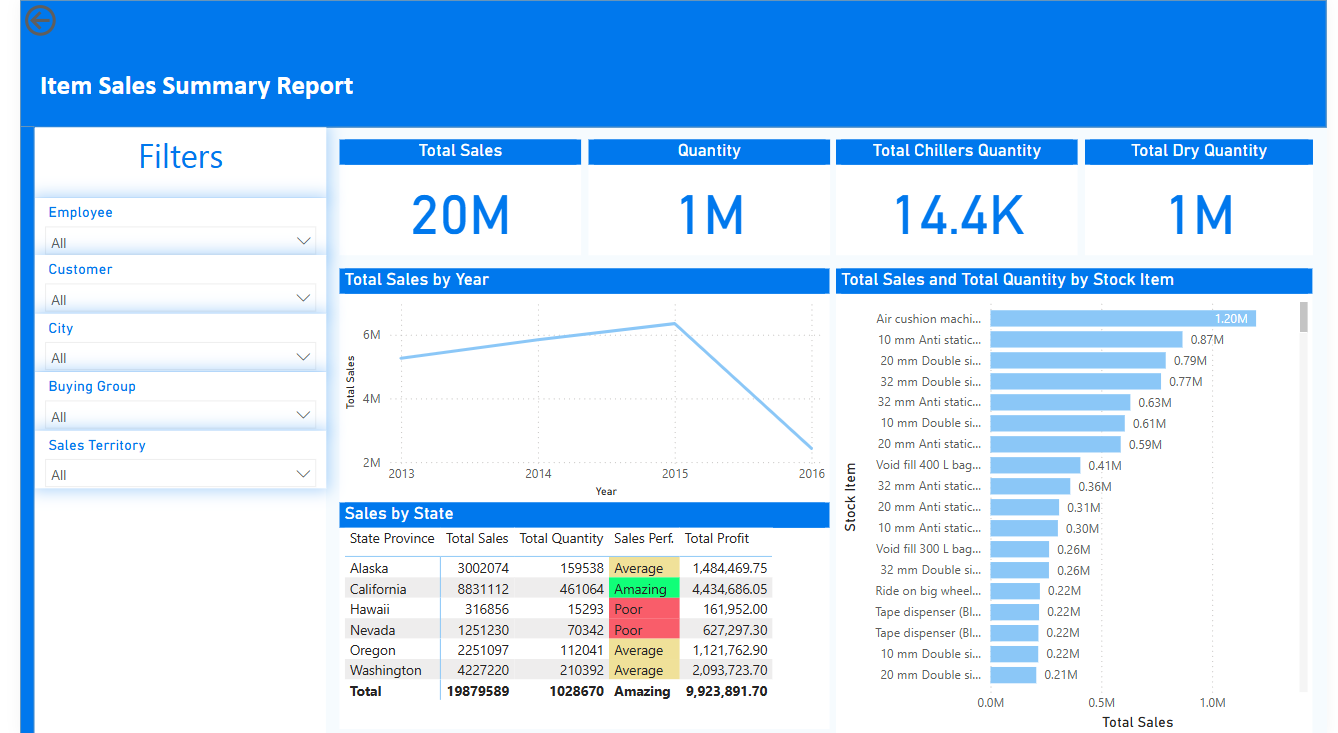

This screenshot's page, from the dashboard's own definition file:
{"tool":"powerbi","page":{"name":"Sales","canvas":[1280,720],"ordinal":18},"visuals":[{"type":"shape","box":[0,0,1280,125],"z":0},{"type":"shape","box":[0,124.1,14.3,596.5],"z":1000},{"type":"shape","box":[15,125,285,595],"z":2000},{"type":"textbox","box":[14.3,62,380.2,44.5],"z":3000},{"type":"card","title":"Total Sales","fields":{"Values":["Sum(FactSale.Total Excluding Tax)"]},"box":[313.3,136.7,236.7,113.3],"z":4000},{"type":"card","title":"Quantity","fields":{"Values":["Sum(FactSale.Quantity)"]},"box":[556.7,136.7,236.7,113.3],"z":5000},{"type":"card","title":"Total Chillers Quantity","fields":{"Values":["Sum(FactSale.Total Chiller Items)"]},"box":[800,136.7,236.7,113.3],"z":6000},{"type":"card","title":"Total Dry Quantity","fields":{"Values":["Sum(FactSale.Total Dry Items)"]},"box":[1043.3,136.7,223.3,113.3],"z":7000},{"type":"actionButton","box":[0,0,100,40],"z":8000},{"type":"textbox","box":[15,125,285,68.3],"z":9000},{"type":"lineChart","fields":{"Category":["DimDate.Date.Variation.Date Hierarchy.Year","DimDate.Date.Variation.Date Hierarchy.Quarter","DimDate.Date.Variation.Date Hierarchy.Month","DimDate.Date.Variation.Date Hierarchy.Day"],"Y":["Sum(FactSale.Total Excluding Tax)"]},"box":[313.3,263.3,480,228.3],"z":10000},{"type":"barChart","fields":{"Y":["Sum(FactSale.Total Excluding Tax)"],"Category":["DimStockItem.Stock Item"]},"box":[800,263.3,466.7,456.7],"z":11000},{"type":"pivotTable","title":"Sales by State ","fields":{"Values":["Sum(FactSale.Total Excluding Tax)","Sum(FactSale.Quantity)","FactSale.Sales Perf.","Sum(FactSale.Profit)"],"Rows":["DimCity.State Province"]},"box":[313.3,491.7,480,221.7],"z":12000},{"type":"slicer","fields":{"Values":["DimEmployee.Employee"]},"box":[14.5,193.5,285.5,56.5],"z":13000},{"type":"slicer","fields":{"Values":["DimCustomer.Customer"]},"box":[15,250,285,56.7],"z":14000},{"type":"slicer","fields":{"Values":["DimCity.City"]},"box":[15,306.7,285,56.7],"z":15000},{"type":"slicer","fields":{"Values":["DimCustomer.Buying Group"]},"box":[15,365,285,56.7],"z":16000},{"type":"slicer","fields":{"Values":["DimCity.Sales Territory"]},"box":[15,421.7,285,56.7],"z":17000}]}

Visuals, with their boxes in screenshot pixels (x1, y1, x2, y2), scaled from the page's 1280x720 canvas onto the 1338x733 screenshot:
shape: <region>0, 0, 1337, 127</region>
shape: <region>0, 126, 15, 732</region>
shape: <region>16, 127, 314, 732</region>
textbox: <region>15, 63, 412, 108</region>
"Total Sales" card: <region>327, 139, 575, 255</region>
"Quantity" card: <region>582, 139, 829, 255</region>
"Total Chillers Quantity" card: <region>836, 139, 1084, 255</region>
"Total Dry Quantity" card: <region>1091, 139, 1324, 255</region>
actionButton: <region>0, 0, 105, 41</region>
textbox: <region>16, 127, 314, 197</region>
lineChart - DimDate.Date.Variation.Date Hierarchy.Year x DimDate.Date.Variation.Date Hierarchy.Quarter: <region>327, 268, 829, 500</region>
barChart - Sum(FactSale.Total Excluding Tax) x DimStockItem.Stock Item: <region>836, 268, 1324, 732</region>
"Sales by State " pivotTable: <region>327, 501, 829, 726</region>
slicer - DimEmployee.Employee: <region>15, 197, 314, 255</region>
slicer - DimCustomer.Customer: <region>16, 255, 314, 312</region>
slicer - DimCity.City: <region>16, 312, 314, 370</region>
slicer - DimCustomer.Buying Group: <region>16, 372, 314, 429</region>
slicer - DimCity.Sales Territory: <region>16, 429, 314, 487</region>
